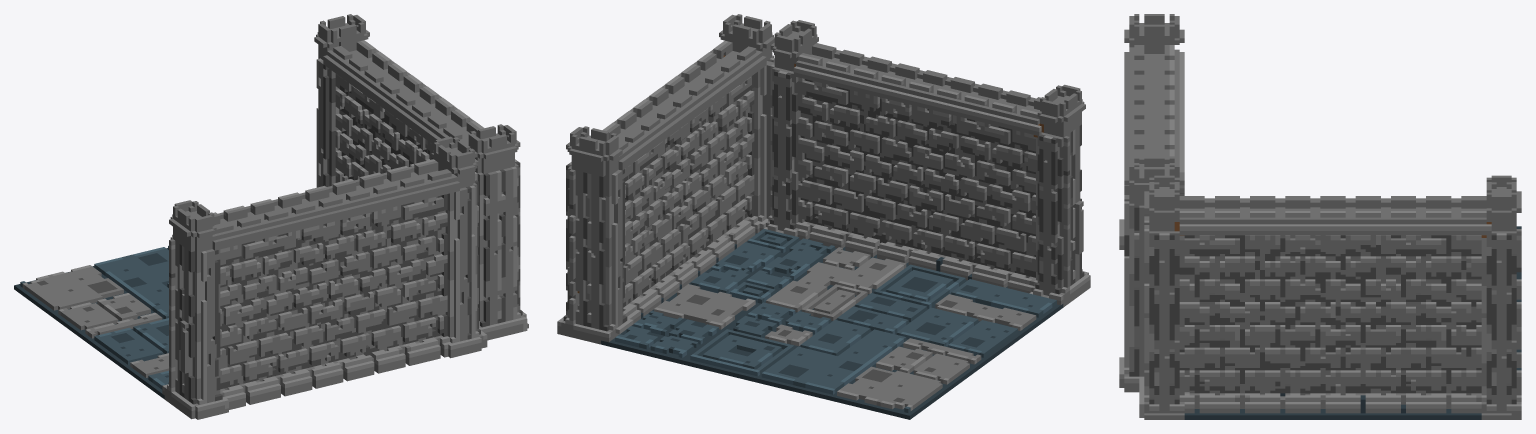
The model's file is wall_E_esquina_abajo_derecha.obj.
3 views of the same model, side by side, from view 1: azimuth 30°, elevation 25°; view 2: azimuth 150°, elevation 25°; view 3: azimuth 270°, elevation 25° (orthographic). The views are drawn at different scales.
Size of the model in its own units: 89 by 48 by 80.
1 material, 1 textured.
